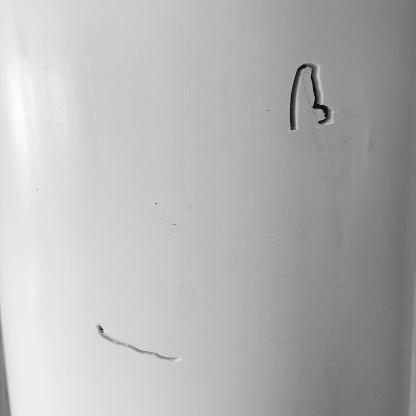fengxi: (286, 60, 334, 131)
sunshang: (93, 319, 188, 366)
